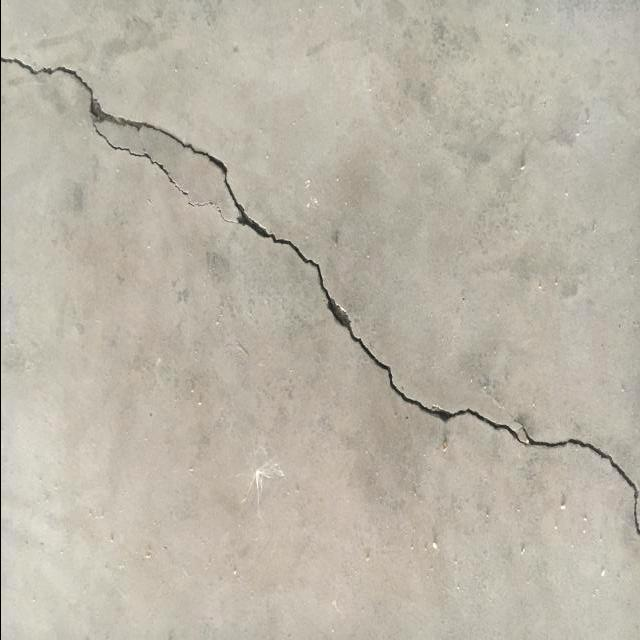SurfaceCrack: (2, 5, 640, 558)
